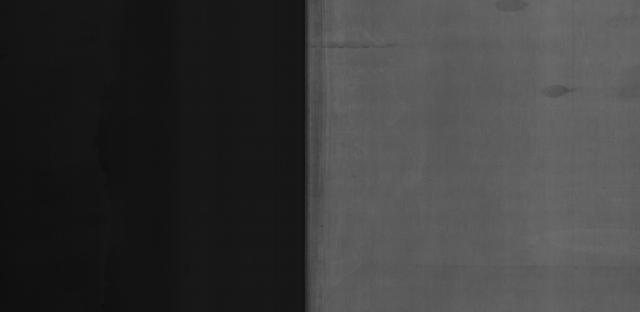oil_spot: (522, 81, 586, 104), (488, 0, 534, 24)
